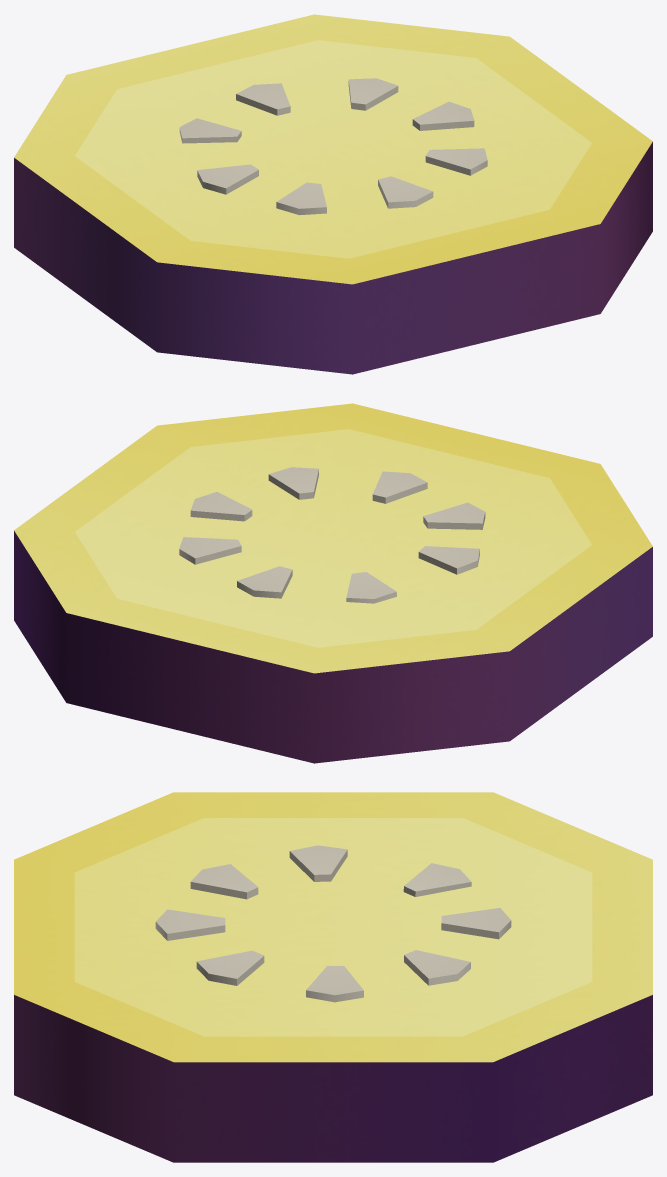
File: eggplant_slice.fbx
The picture shows the model from 3 angles, top to bottom: view 1: azimuth 30°, elevation 25°; view 2: azimuth 150°, elevation 25°; view 3: azimuth 270°, elevation 25°; orthographic projection. The views are drawn at different scales.
Visible parts, largest first — view 1: eggplant_slice; view 2: eggplant_slice; view 3: eggplant_slice.
Boxes of the visible parts, bbox=[...] form: eggplant_slice: bbox=[14, 14, 652, 374]; eggplant_slice: bbox=[14, 403, 652, 763]; eggplant_slice: bbox=[14, 792, 652, 1162].
Bounding box in the file's own units: 18.89 × 3.73 × 18.89.
